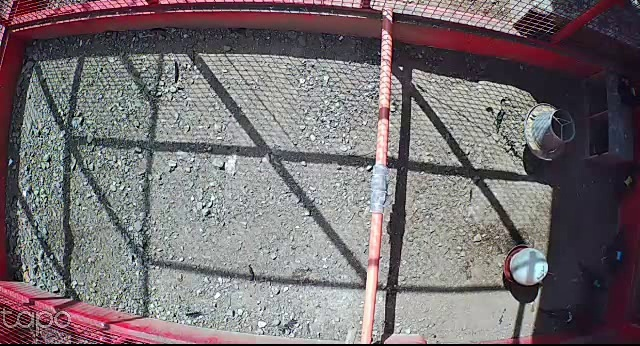Chicken: (597, 223, 633, 288), (603, 155, 640, 217), (572, 256, 614, 299)
Drinker: (503, 245, 550, 289)
Feeder: (522, 100, 577, 162)
Rooster: (538, 300, 607, 339)
Saddle_Color_Blue: (615, 248, 624, 262)
Saddle_Color_Yellow: (624, 173, 634, 185)
